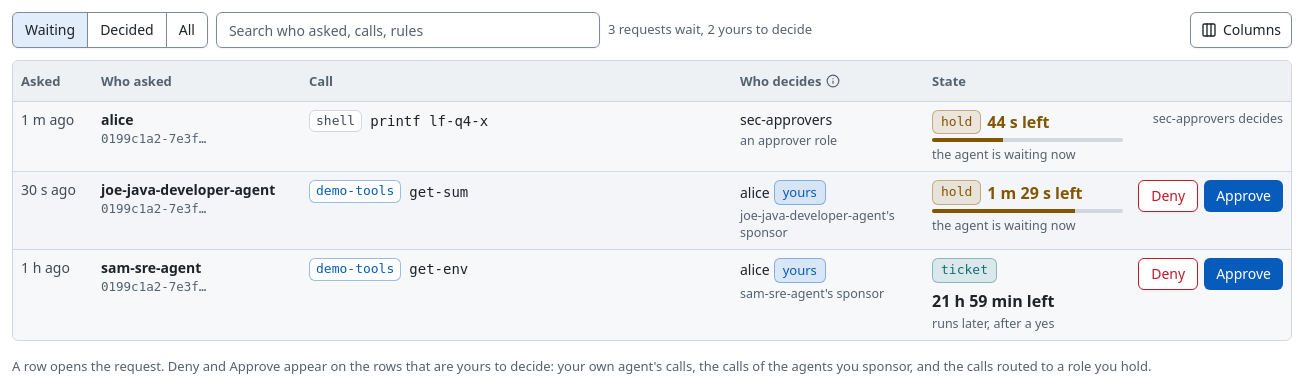
the self-service requests tab › asks for the older page with the server's own cursor and appends it
This screenshot has width=1304, height=391.
Expected: the button with aria-label "Open get-sum for joe-java-developer-agent" is shown, [13,172,1291,250]
What coordinates should you click on to do the following:
click the button "Decided"
I would click on:
 (127, 30)
Its box is [87,12,167,48].
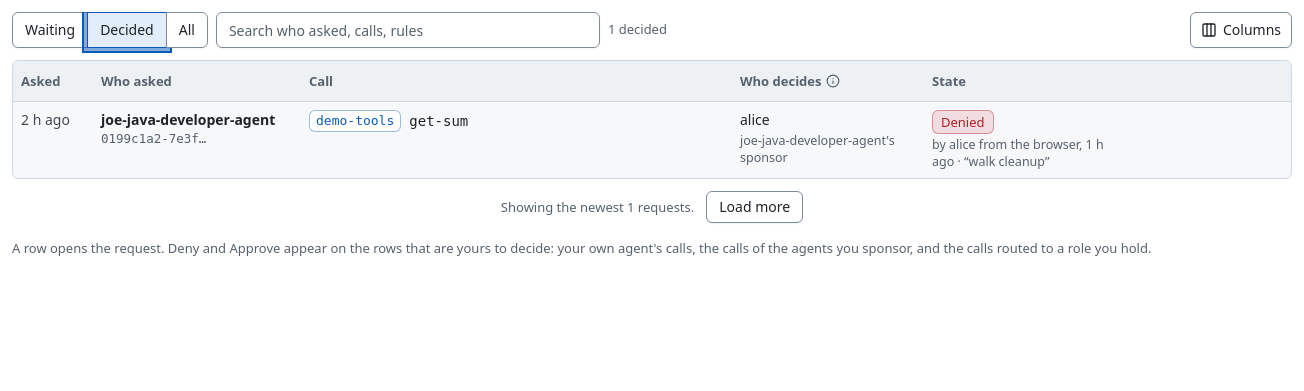
What coordinates should you click on to do the following:
click the button "Load more"
I would click on:
 (755, 207)
Its box is [706,191,803,223].
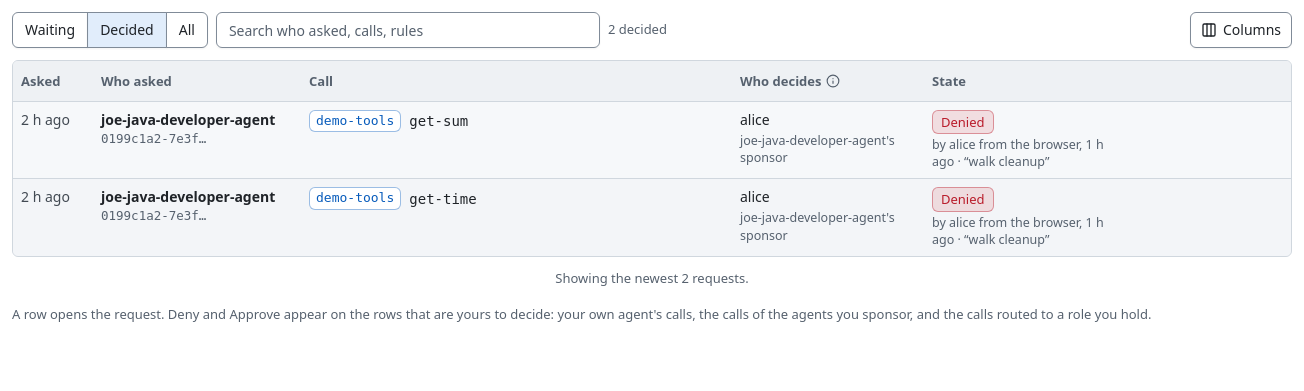
Expected: the button with aria-label "Open get-sum for joe-java-developer-agent" is shown, [13,101,1291,179]
Expected: the button with aria-label "Open get-time for joe-java-developer-agent" is shown, [13,179,1291,256]
Expected: the button "Load more" is gone
